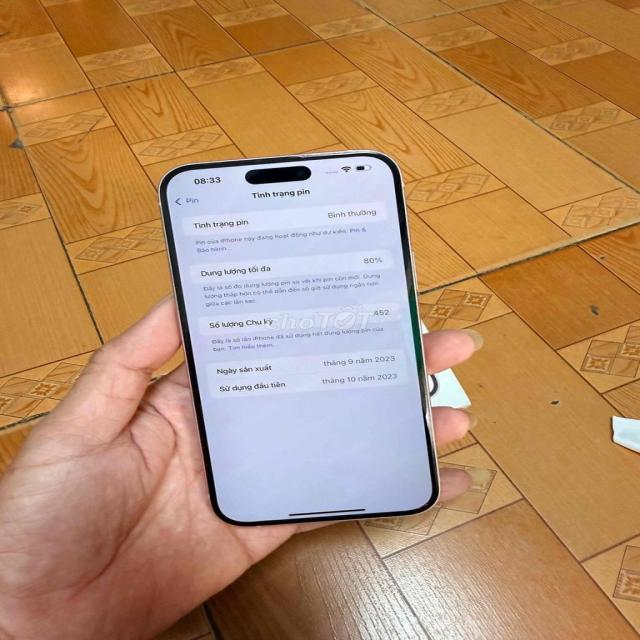gen_15: (142, 148, 449, 536)
